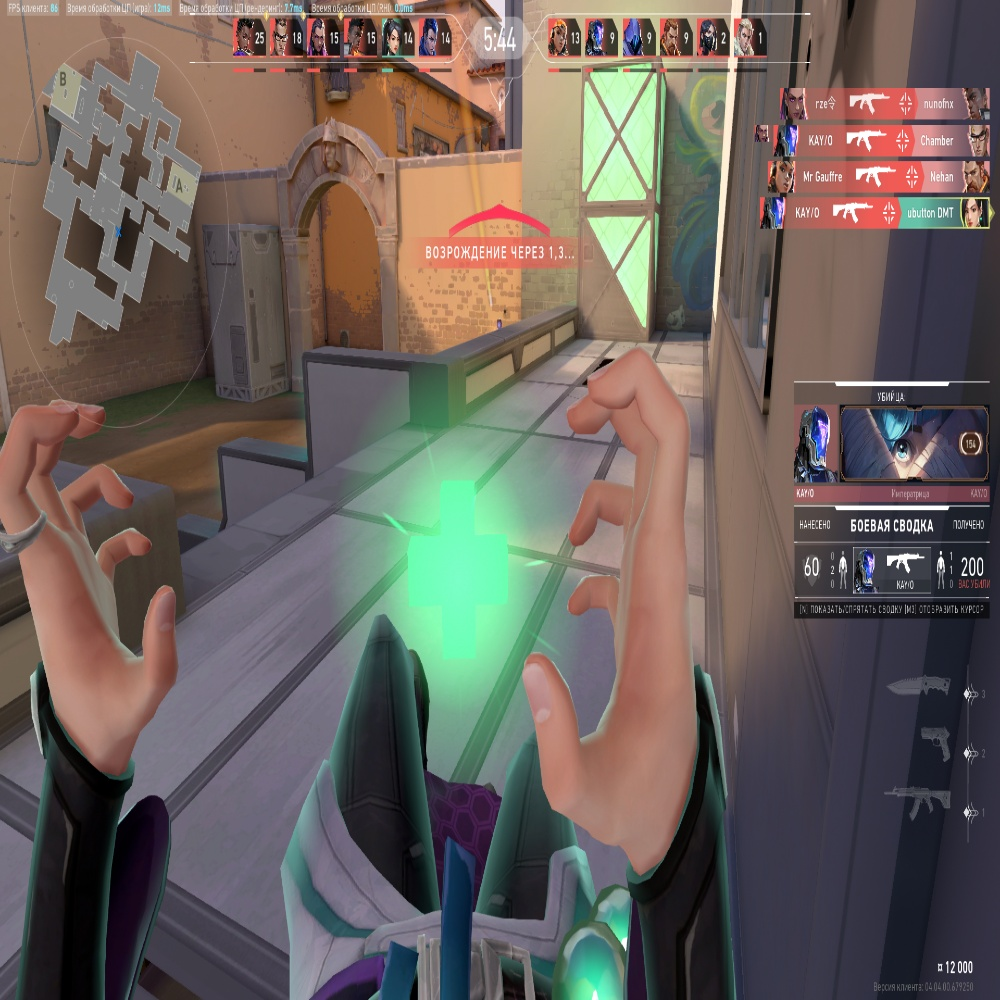head: (496, 319, 502, 329)
